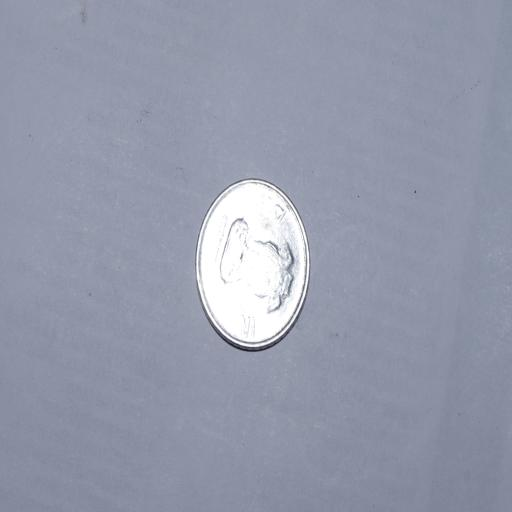rupee2: (190, 175, 311, 354)
